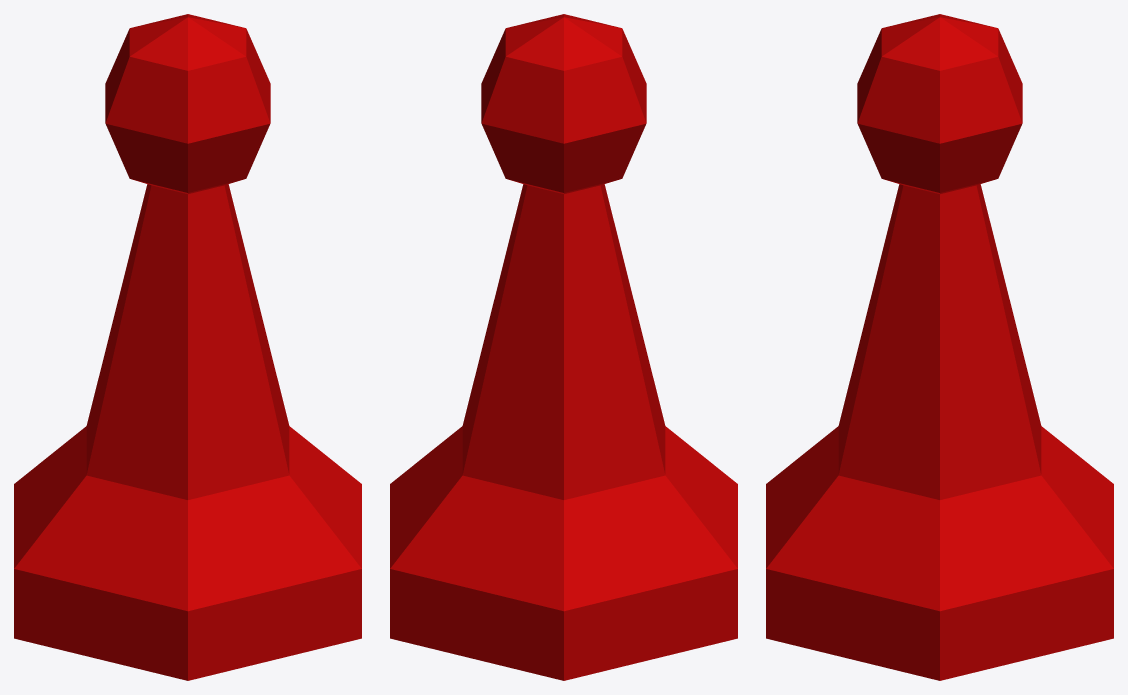
File: Game_Piece_Generic_Red_01.fbx
3 views of the same model, side by side, from view 1: azimuth 30°, elevation 25°; view 2: azimuth 150°, elevation 25°; view 3: azimuth 270°, elevation 25° (orthographic).
Visible parts, largest first — view 1: Game_Piece_Generic_Red_01; view 2: Game_Piece_Generic_Red_01; view 3: Game_Piece_Generic_Red_01.
Boxes of the visible parts, x1,y1,x2,y2 form: Game_Piece_Generic_Red_01: (14, 14, 361, 680); Game_Piece_Generic_Red_01: (390, 14, 737, 680); Game_Piece_Generic_Red_01: (766, 14, 1113, 680).
Bounding box in the file's own units: 15.7 × 24.98 × 13.6.
